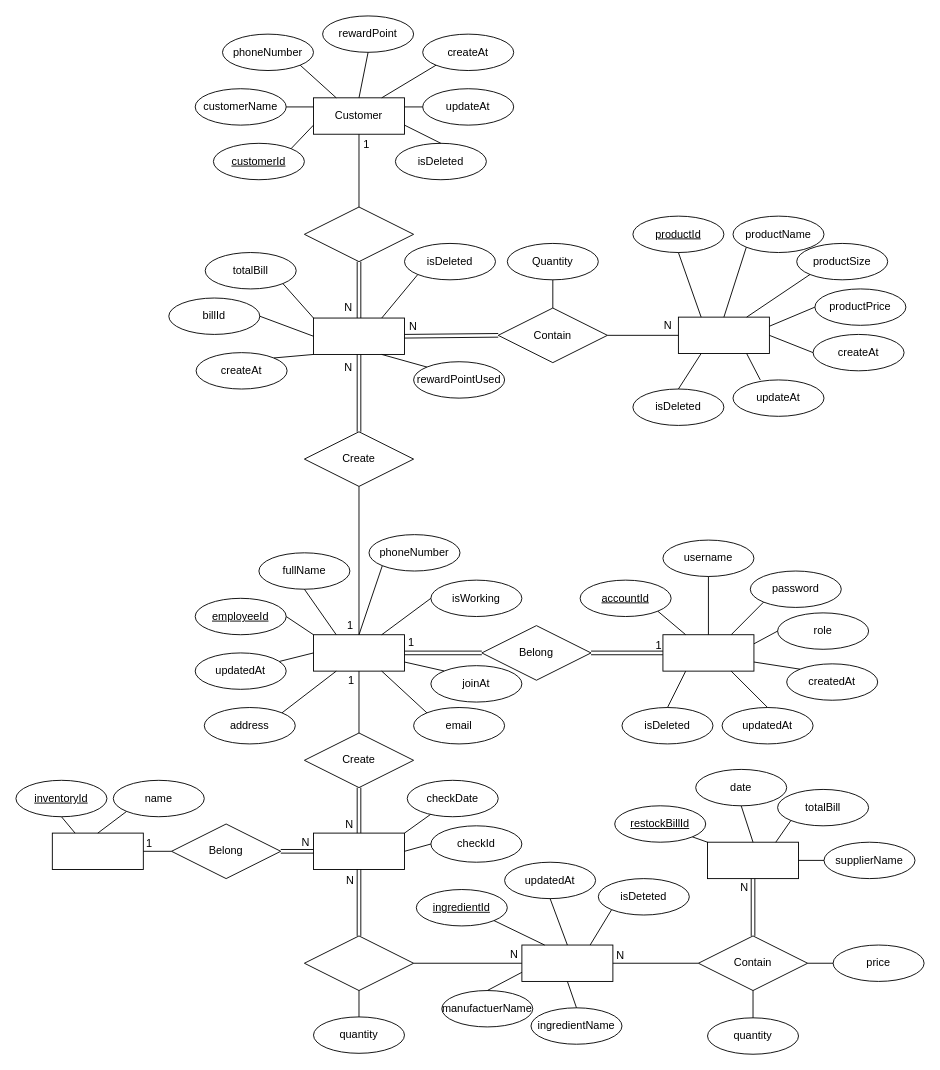
Image size: 940x1070. Some labels were removed from this diagram. The centre of each missing label's shape, as x and y in pixels:
Account: (708,652)
Check: (358,963)
Employee: (358,652)
Ingredient: (567,962)
Inventory: (97,851)
InventoryCheck: (358,851)
Order: (358,234)
OrderBill: (358,335)
Product: (723,335)
RestockBill: (753,860)
